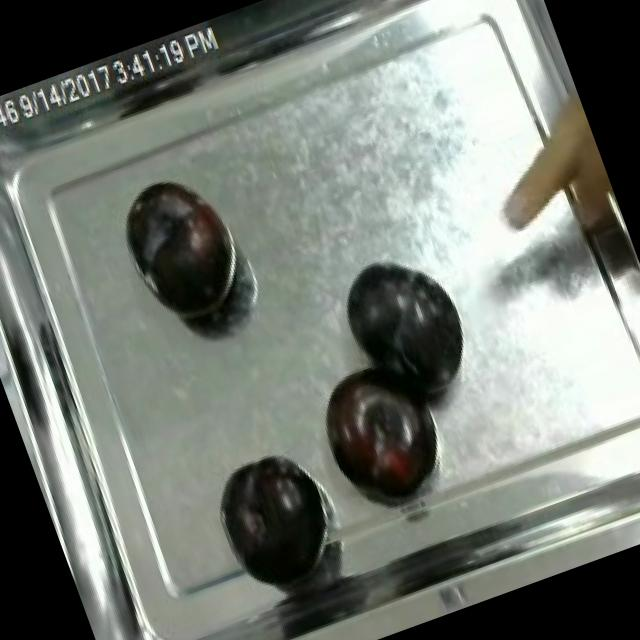Fruit: (324, 235, 488, 421), (301, 347, 454, 520), (115, 173, 257, 338), (202, 438, 346, 600)
